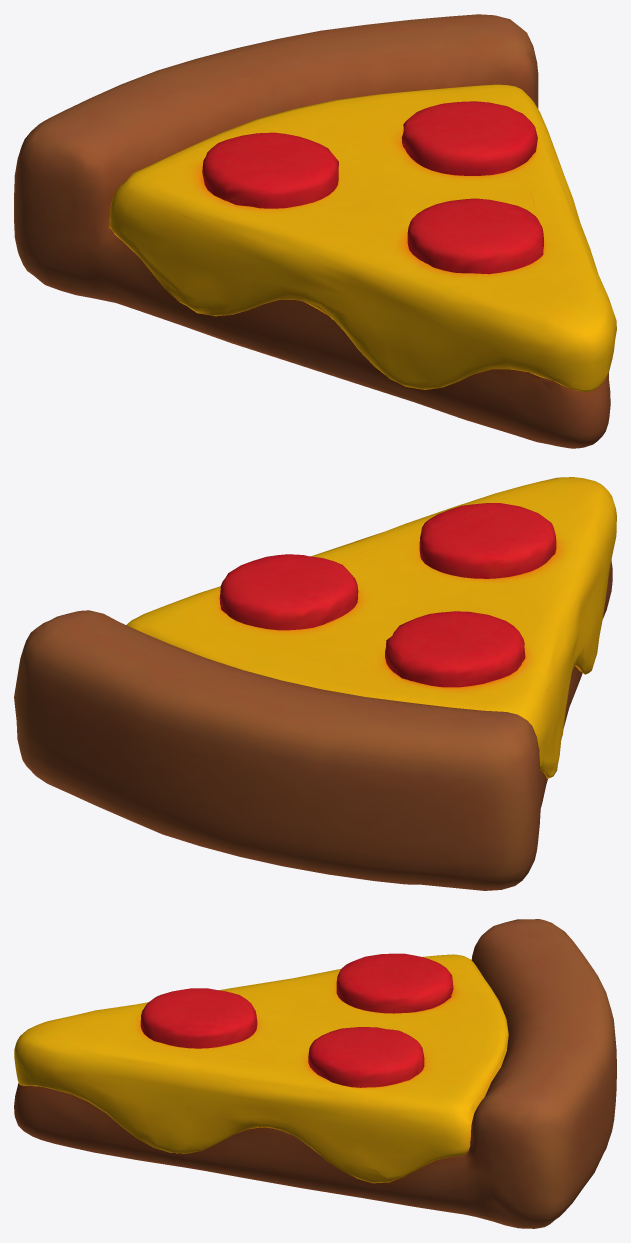
File: shot_pizza.glb
3 renders of one model, top to bottom at view 1: azimuth 30°, elevation 25°; view 2: azimuth 150°, elevation 25°; view 3: azimuth 270°, elevation 25°, orthographic. The views are drawn at different scales.
Parts seen in each view (by area): view 1: geometry_0; view 2: geometry_0; view 3: geometry_0.
Boxes of the visible parts, x1,y1,x2,y2 form: geometry_0: (14,14,616,448); geometry_0: (14,477,616,890); geometry_0: (14,919,616,1228).
Size of the model in its own units: 0.7661 by 0.2373 by 0.9565.
1 material, 1 textured.
